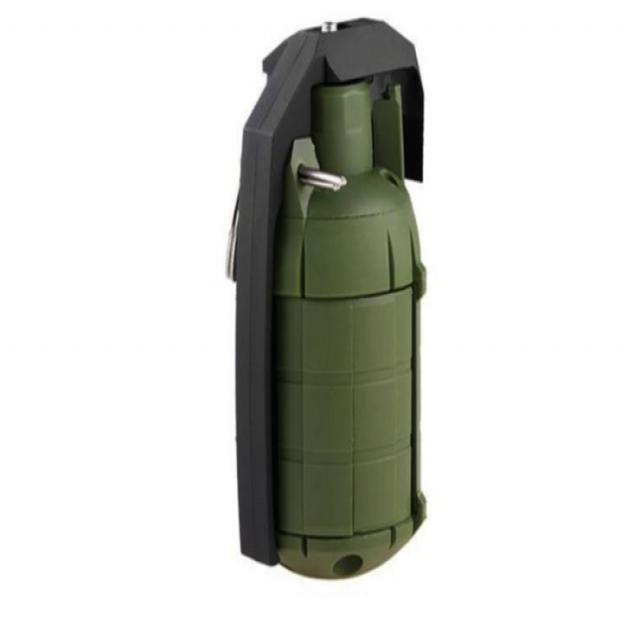Grenade: (226, 19, 428, 582)
